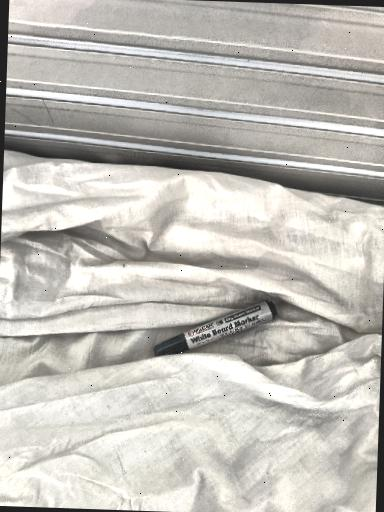marcador negro: (153, 300, 277, 356)
